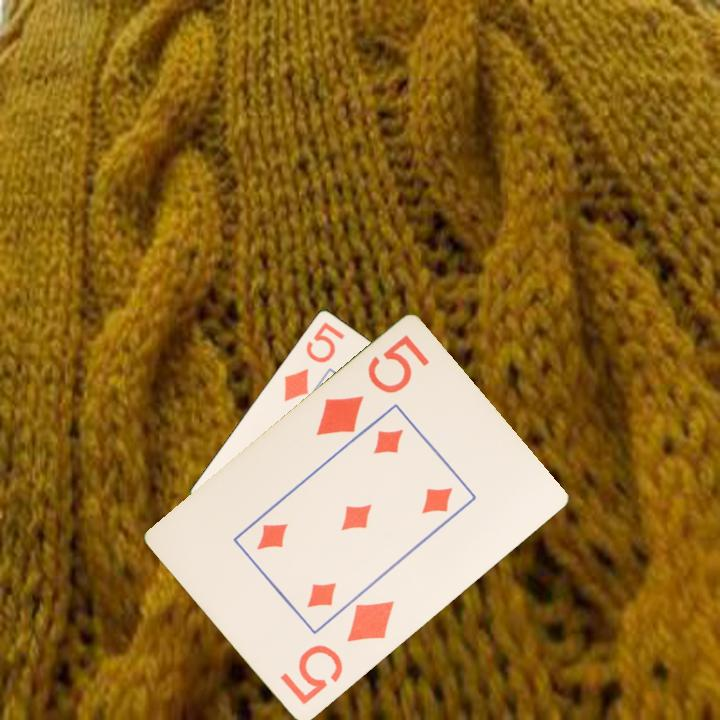5d: (276, 597, 398, 709), (312, 332, 433, 440), (280, 318, 347, 404)
